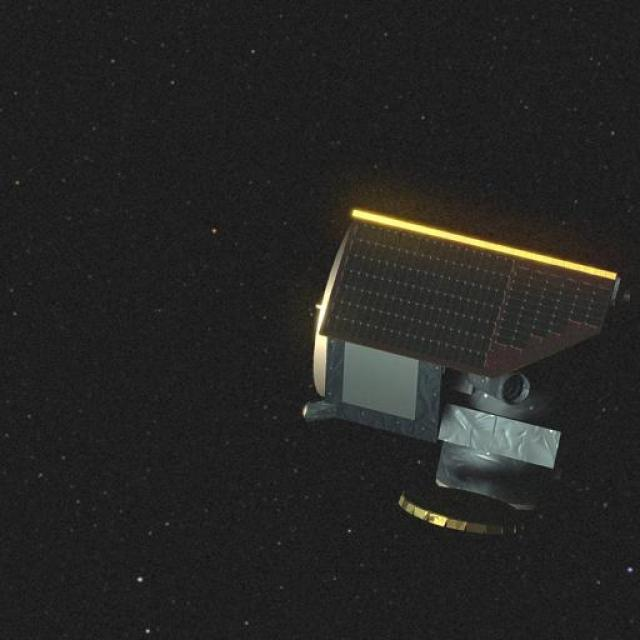debris: (306, 184, 598, 559)
